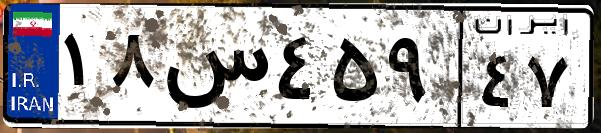1: (57, 26, 110, 100)
4: (270, 28, 330, 110), (475, 38, 525, 113)
5: (330, 28, 385, 110)
7: (525, 38, 570, 115)
8: (110, 28, 158, 98)
9: (385, 28, 445, 110)
س: (158, 20, 270, 120)
